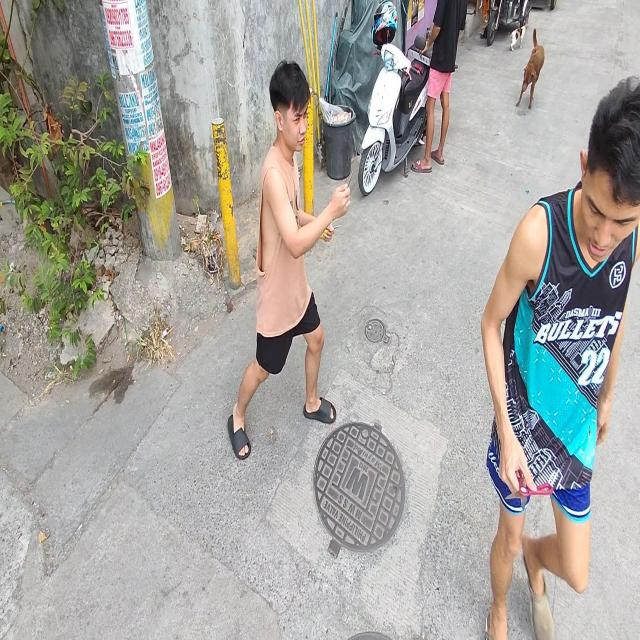scissor: (505, 467, 553, 510)
